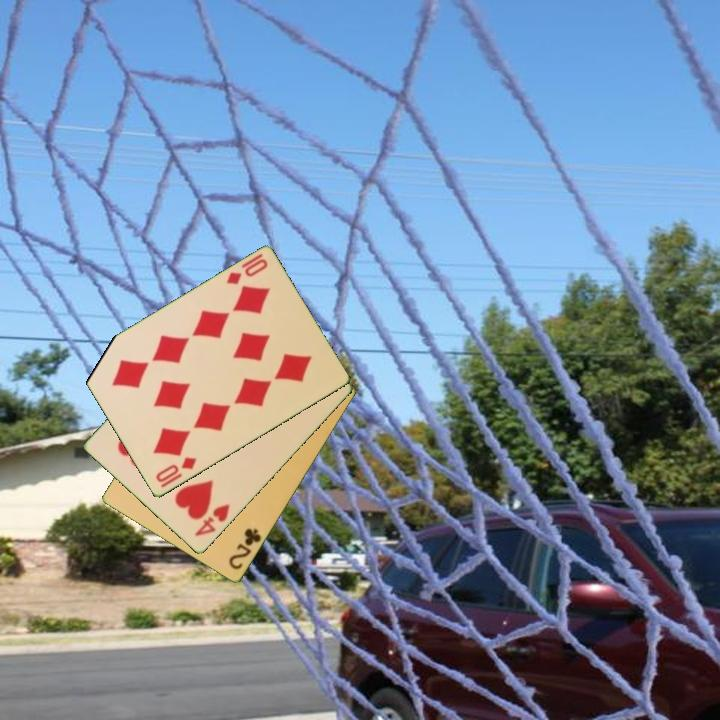10d: (223, 250, 271, 288), (152, 454, 200, 486)
2c: (225, 525, 264, 573)
4h: (191, 500, 233, 540)
